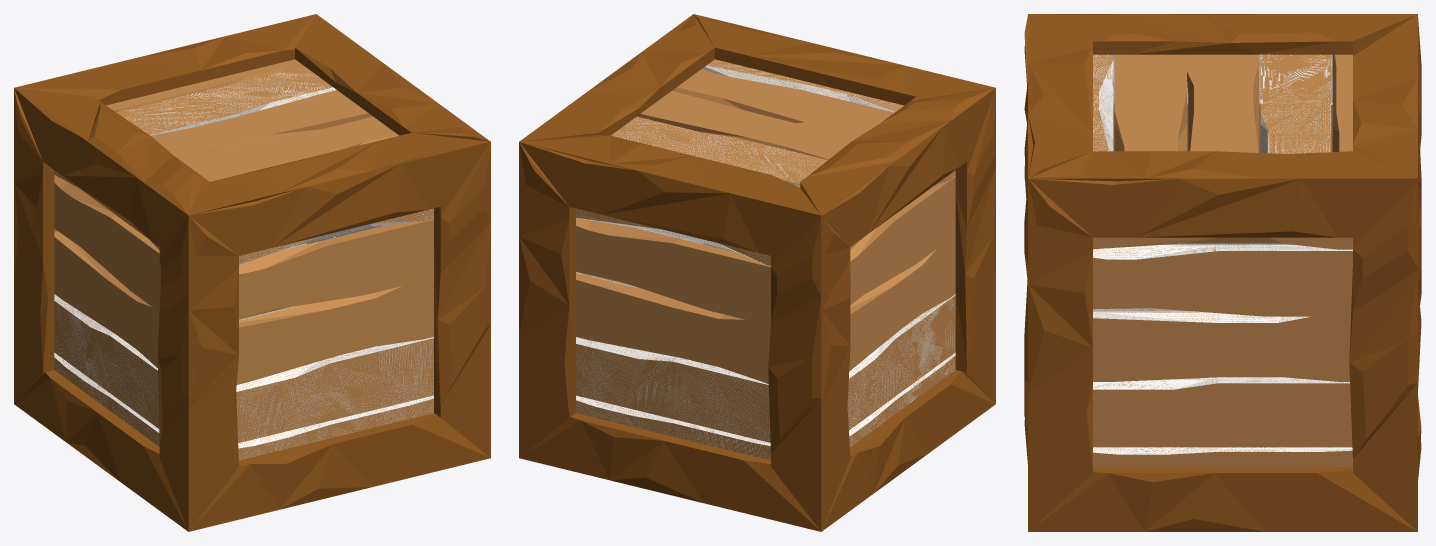
3 views of the same model, side by side, from view 1: azimuth 30°, elevation 25°; view 2: azimuth 150°, elevation 25°; view 3: azimuth 270°, elevation 25° (orthographic). The views are drawn at different scales.
Parts seen in each view (by area): view 1: Group7, Group12, Group5, Box_Ugol4_3, Box_Ugol3_3, Box_ugol3, Box_Ugol2_3, Box_ugol6, Box_Ugol4_2, Box_Ugol4_6, Box_ugol2, Box_Ugol3_6 (+3 smaller); view 2: Group2, Group12, Group5, Box_Ugol4_1, Box_ugol1, Box_Ugol3_1, Box_Ugol2_1, Box_Ugol3_6, Box_Ugol2_2, Box_Ugol4_6, Box_ugol2, Box_ugol6 (+3 smaller); view 3: Group11, Group5, Box_Ugol4_5, Box_Ugol3_5, Box_Ugol2_5, Box_ugol5, Box_Ugol3_2, Box_ugol2, Box_Ugol4_2, Box_Ugol2_2, Group12, Box_Ugol3_3 (+2 smaller).
Boxes of the visible parts, left/top/right/bottom form: Group7: left=236, top=208, right=433, bottom=460; Group12: left=54, top=170, right=159, bottom=446; Group5: left=106, top=59, right=398, bottom=181; Box_Ugol4_3: left=189, top=413, right=490, bottom=531; Box_Ugol3_3: left=434, top=142, right=490, bottom=457; Box_ugol3: left=188, top=216, right=238, bottom=531; Box_Ugol2_3: left=189, top=142, right=490, bottom=255; Box_ugol6: left=14, top=88, right=54, bottom=403; Box_Ugol4_2: left=15, top=14, right=315, bottom=105; Box_Ugol4_6: left=14, top=370, right=188, bottom=531; Box_ugol2: left=295, top=14, right=490, bottom=141; Box_Ugol3_6: left=158, top=216, right=188, bottom=531; Group2: left=576, top=208, right=770, bottom=460; Group12: left=847, top=170, right=955, bottom=446; Group5: left=611, top=59, right=903, bottom=187; Box_Ugol4_1: left=519, top=413, right=820, bottom=531; Box_ugol1: left=519, top=142, right=575, bottom=457; Box_Ugol3_1: left=768, top=216, right=821, bottom=531; Box_Ugol2_1: left=519, top=142, right=820, bottom=255; Box_Ugol3_6: left=955, top=88, right=995, bottom=403; Box_Ugol2_2: left=694, top=14, right=994, bottom=105; Box_Ugol4_6: left=821, top=370, right=995, bottom=531; Box_ugol2: left=519, top=14, right=714, bottom=141; Box_ugol6: left=821, top=216, right=850, bottom=531; Group11: left=1093, top=237, right=1352, bottom=471; Group5: left=1093, top=54, right=1352, bottom=153; Box_Ugol4_5: left=1028, top=467, right=1417, bottom=531; Box_Ugol3_5: left=1349, top=179, right=1417, bottom=531; Box_Ugol2_5: left=1028, top=178, right=1417, bottom=237; Box_ugol5: left=1028, top=179, right=1092, bottom=531; Box_Ugol3_2: left=1029, top=14, right=1416, bottom=54; Box_ugol2: left=1028, top=151, right=1416, bottom=181; Box_Ugol4_2: left=1353, top=14, right=1417, bottom=178; Box_Ugol2_2: left=1028, top=14, right=1092, bottom=178; Group12: left=1093, top=54, right=1332, bottom=311; Box_Ugol3_3: left=1024, top=182, right=1027, bottom=430.
Bounding box in the file's own units: 550 × 550 × 550.
